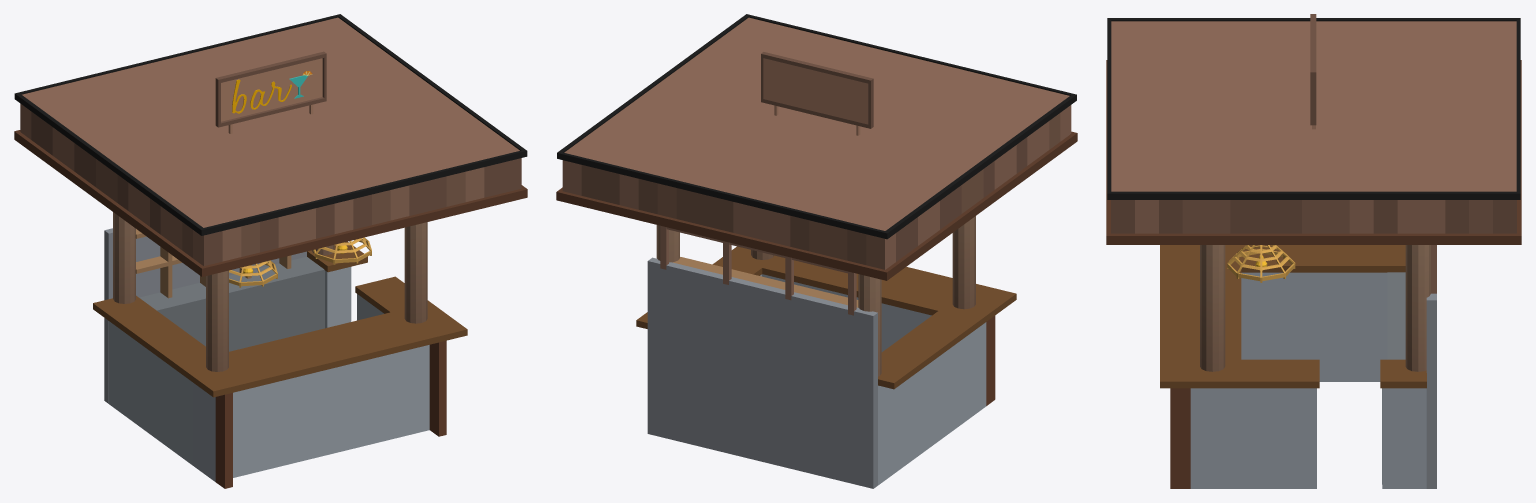
Rendered from Bar_01.fbx.
The picture shows the model from 3 angles, left to right: view 1: azimuth 30°, elevation 25°; view 2: azimuth 150°, elevation 25°; view 3: azimuth 270°, elevation 25°; orthographic projection. The views are drawn at different scales.
Parts seen in each view (by area): view 1: Bar_01; view 2: Bar_01; view 3: Bar_01.
Part boxes in pixels (left/top/right/bottom): Bar_01: left=14, top=14, right=527, bottom=488; Bar_01: left=556, top=14, right=1077, bottom=488; Bar_01: left=1106, top=14, right=1521, bottom=488.
Bounding box in the file's own units: 410 × 420 × 410.
